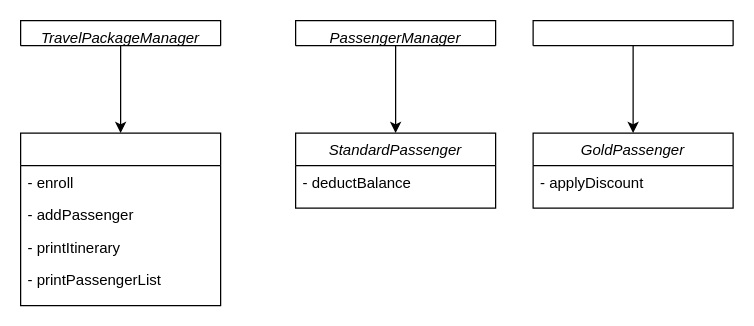
Some shapes in this 754 by 326 pixel diagram are drawn without their labels. Here are the shapes that lost their labels. From the top down, the box of each, then its label:
(532, 19, 733, 46): ActivityManager
(19, 132, 221, 306): TravelPackage
